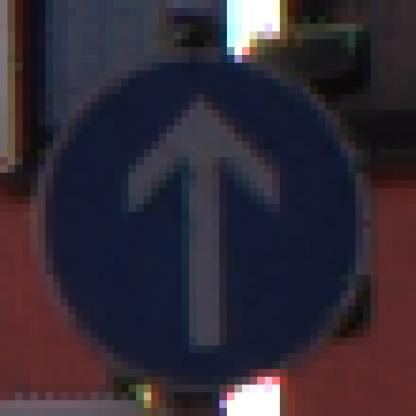AheadOnly: (39, 40, 379, 378)
